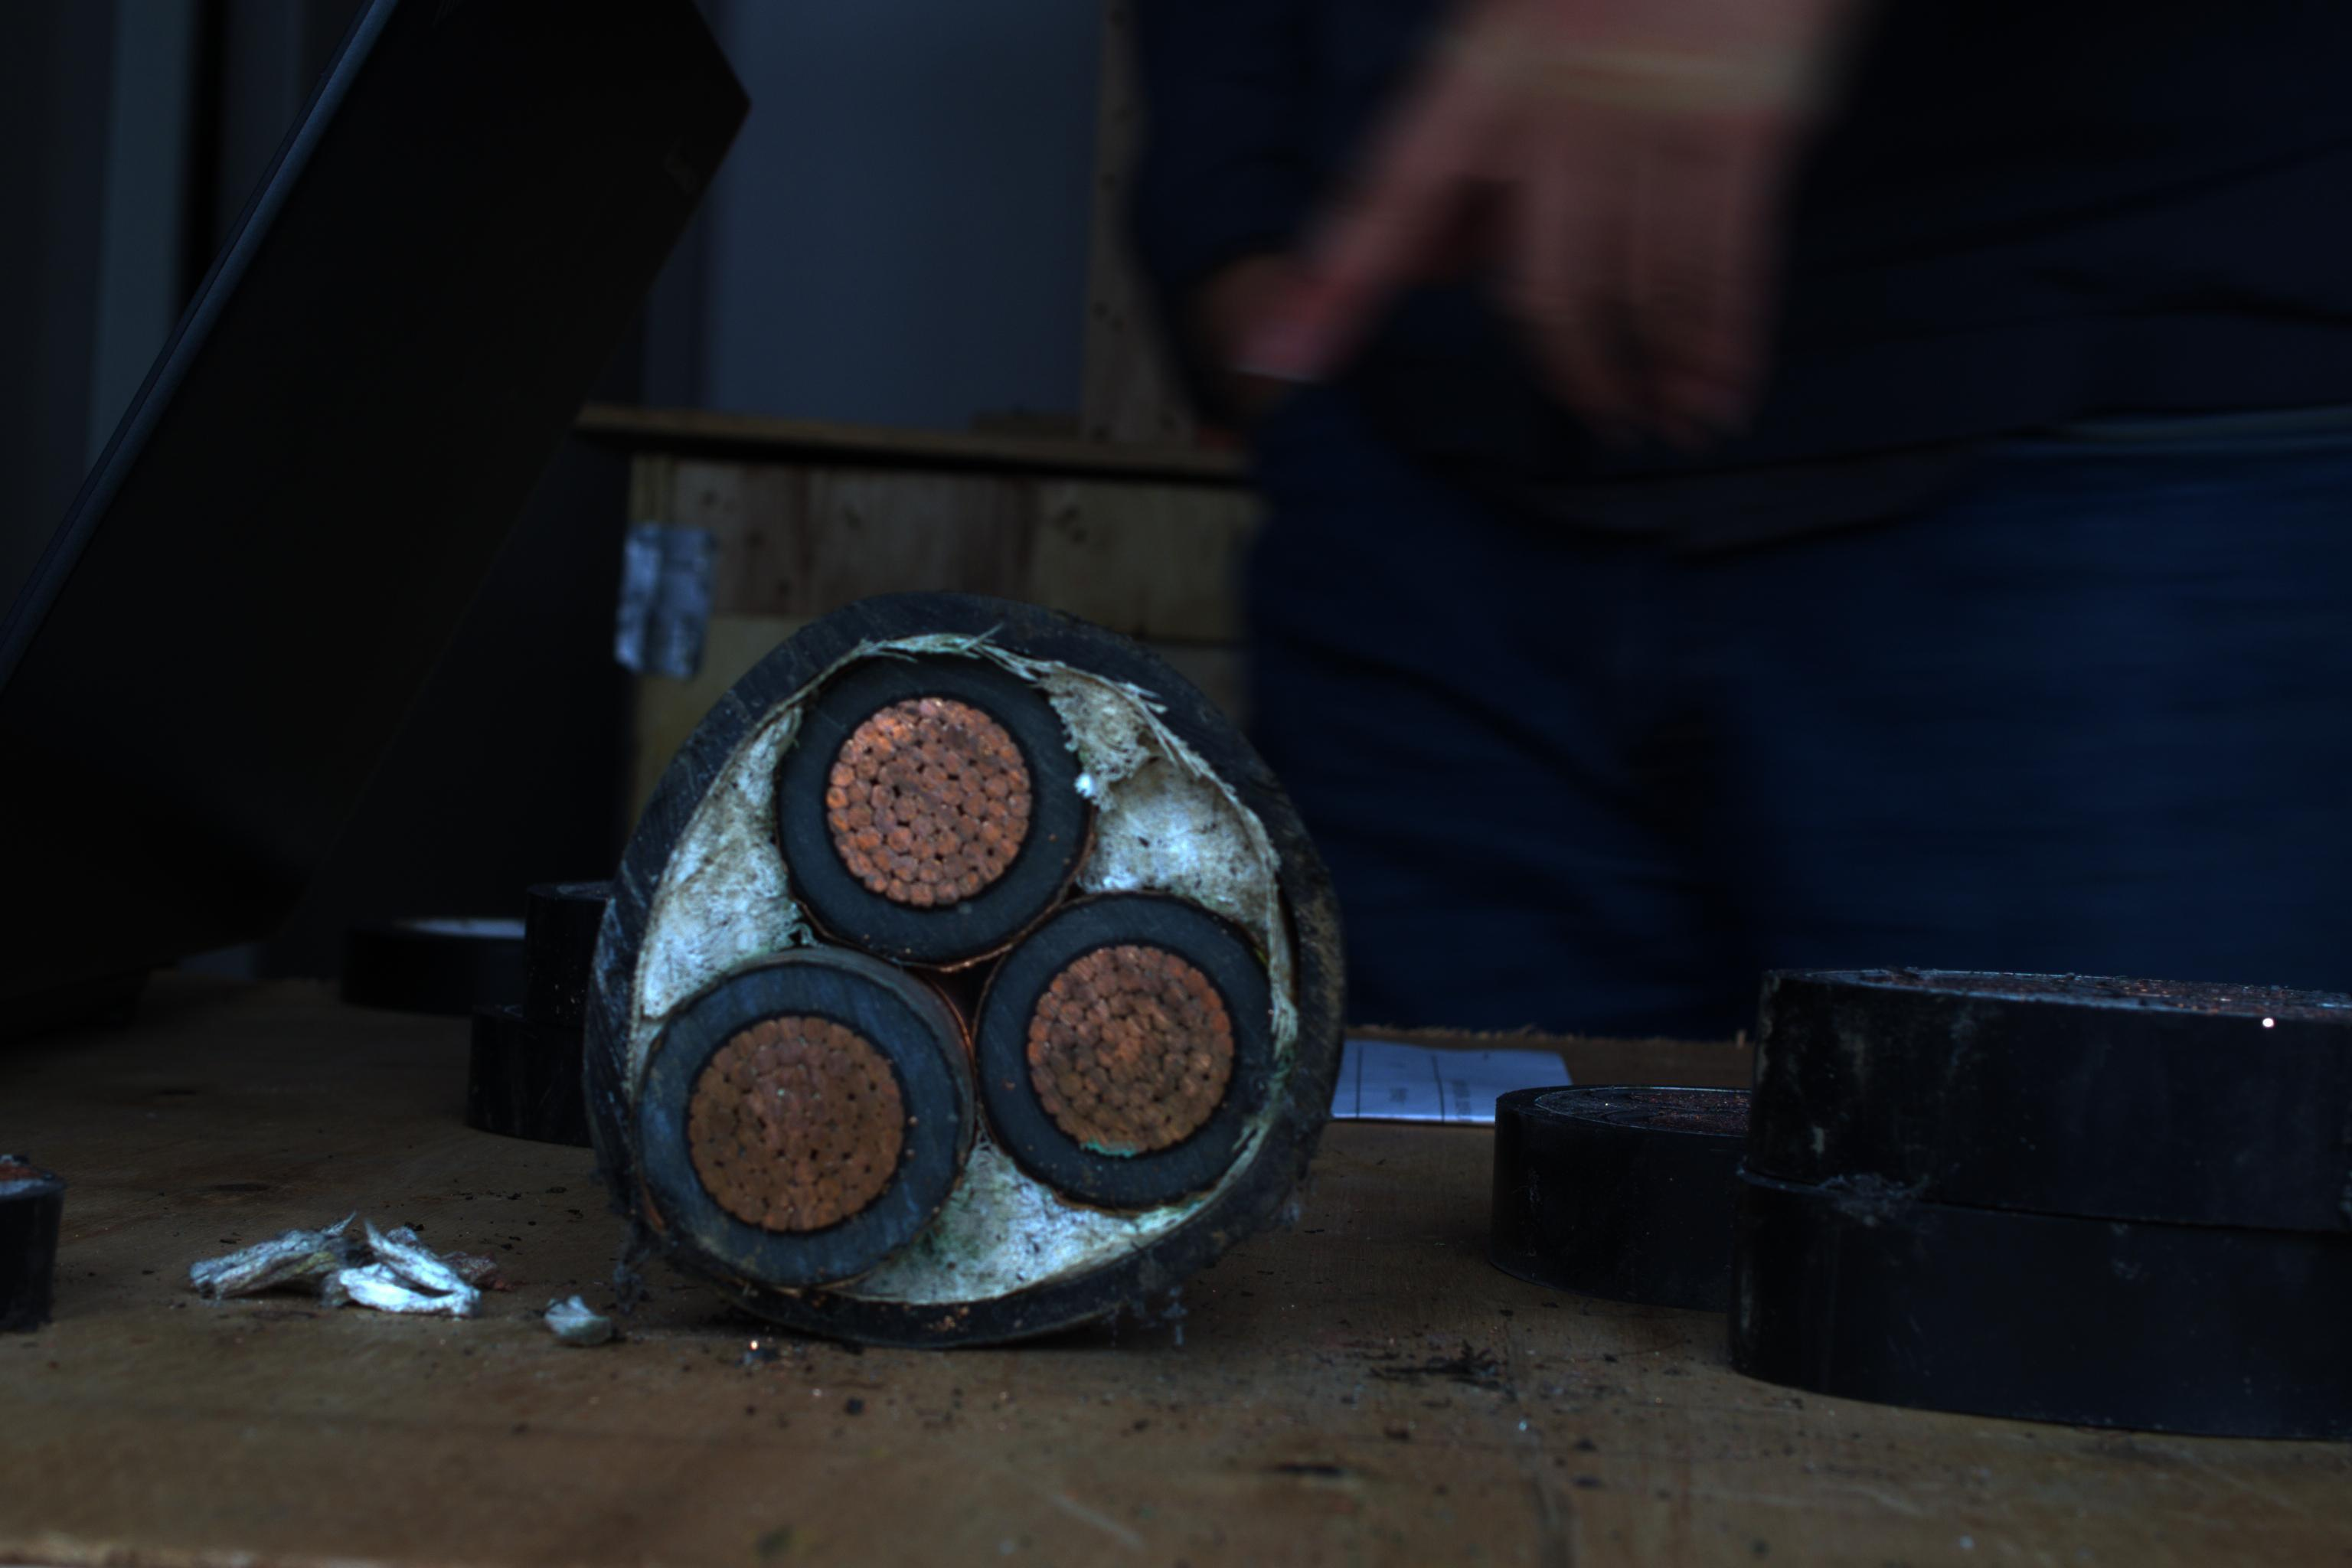ZA_YJV_8.7_10kV_3x400: (623, 605, 1323, 1321)
